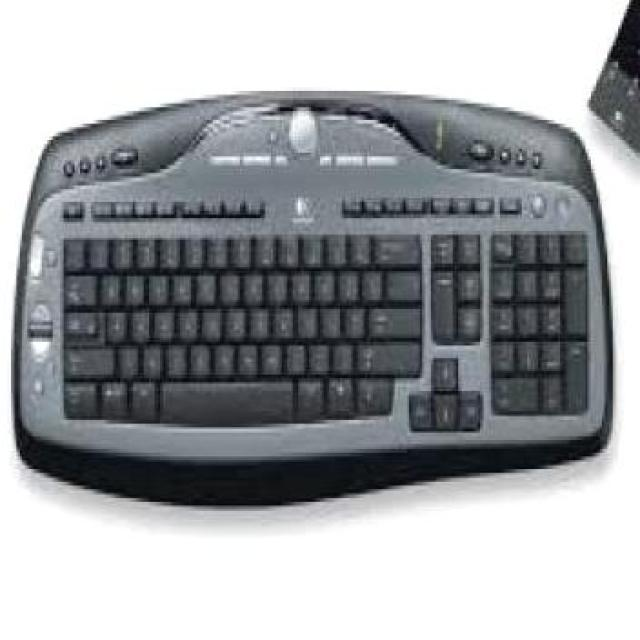keyboard: (11, 82, 618, 513)
